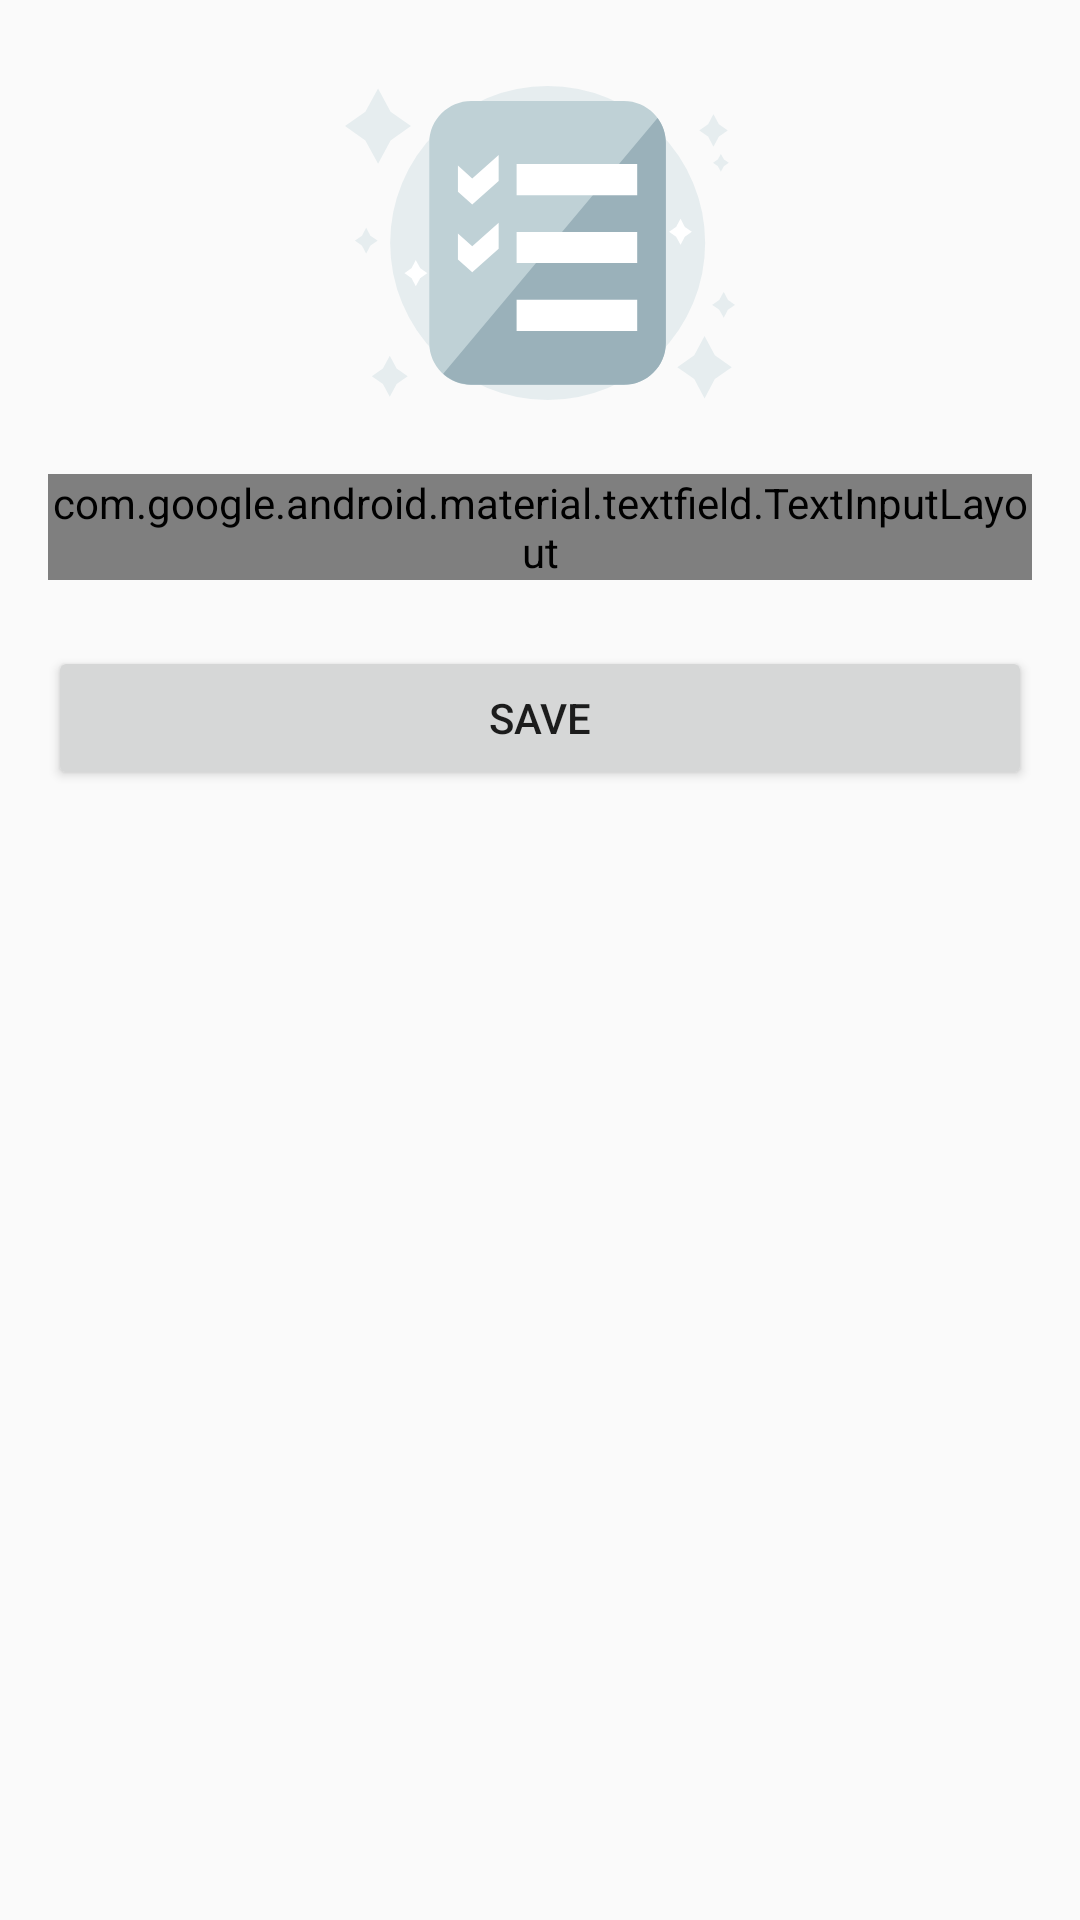

Point at icon controls on the screen. Image size 1080 × 1920, points as [x,y].
list: [547,243]
